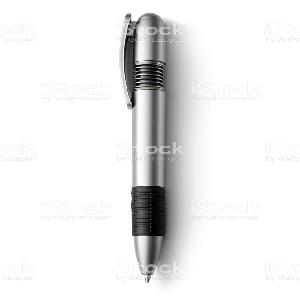pen: (118, 9, 173, 284)
